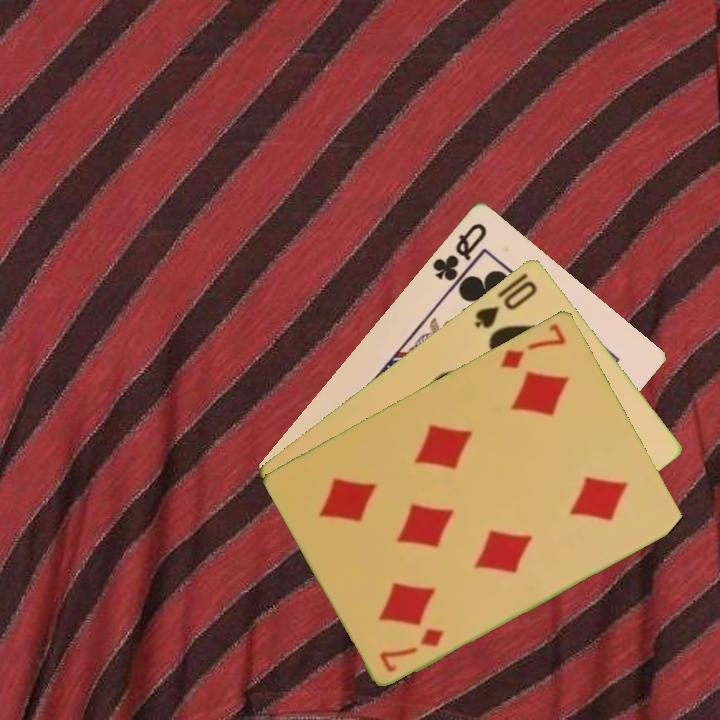10s: (470, 268, 541, 331)
7d: (497, 319, 569, 371), (376, 624, 448, 675)
Qc: (428, 218, 490, 292)
